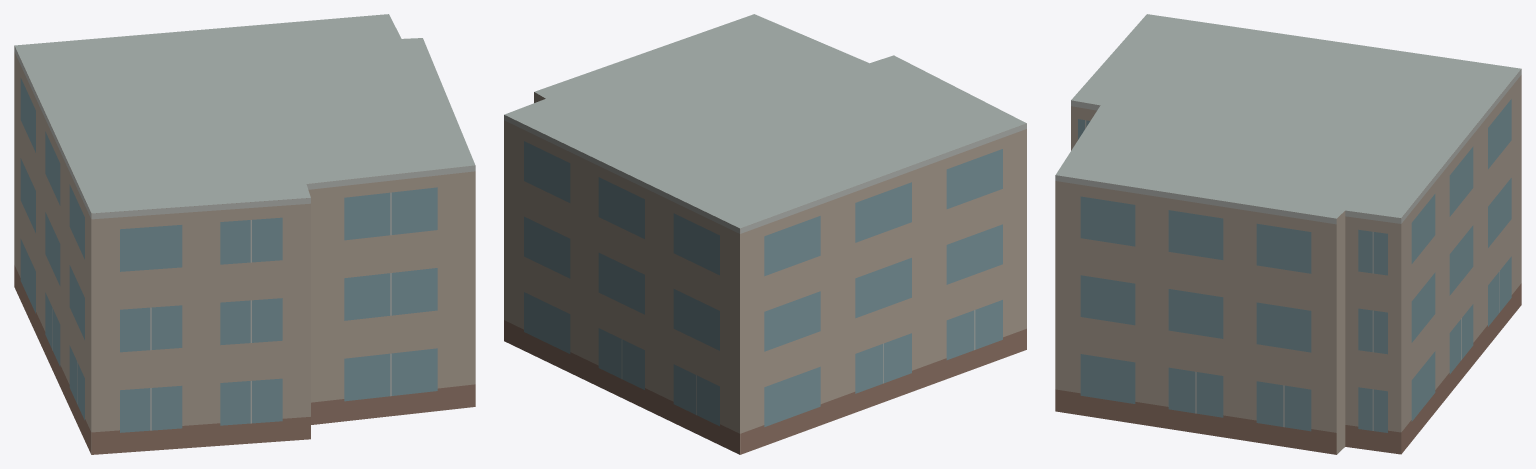
File: survey-upis-32485623.glb
3 renders of one model, left to right at view 1: azimuth 30°, elevation 25°; view 2: azimuth 150°, elevation 25°; view 3: azimuth 270°, elevation 25°, orthographic. The views are drawn at different scales.
Visible parts, largest first — view 1: survey-upis-32485623.tmp; view 2: survey-upis-32485623.tmp; view 3: survey-upis-32485623.tmp.
Part boxes in pixels (bbox=[...]): survey-upis-32485623.tmp: bbox=[14, 14, 475, 454]; survey-upis-32485623.tmp: bbox=[504, 14, 1026, 454]; survey-upis-32485623.tmp: bbox=[1055, 14, 1521, 454].
Bounding box in the file's own units: 18.4 × 9.9 × 17.71.
